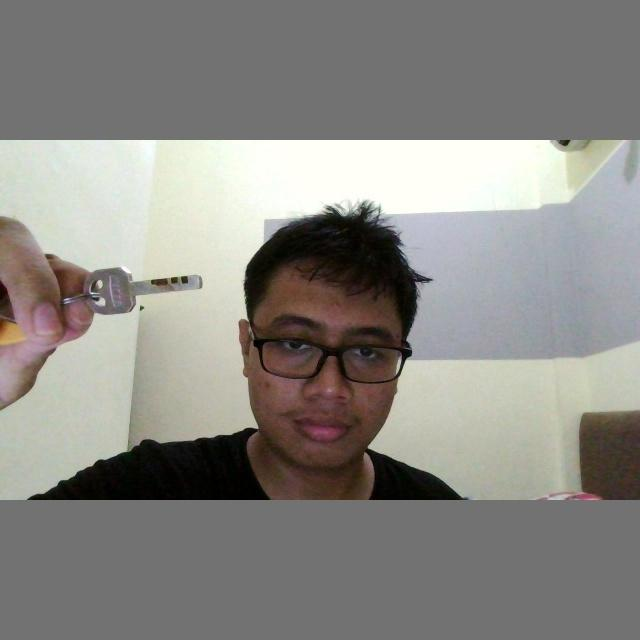Keys: (82, 254, 208, 322)
